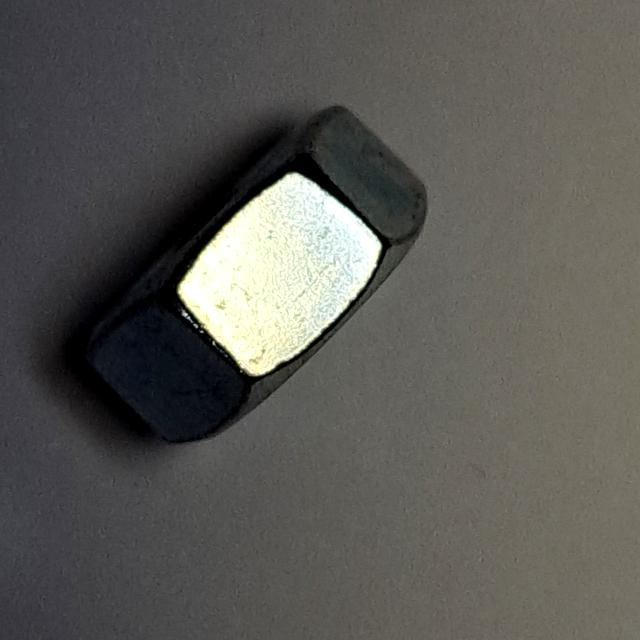Side_Excellent: (61, 89, 460, 463)
